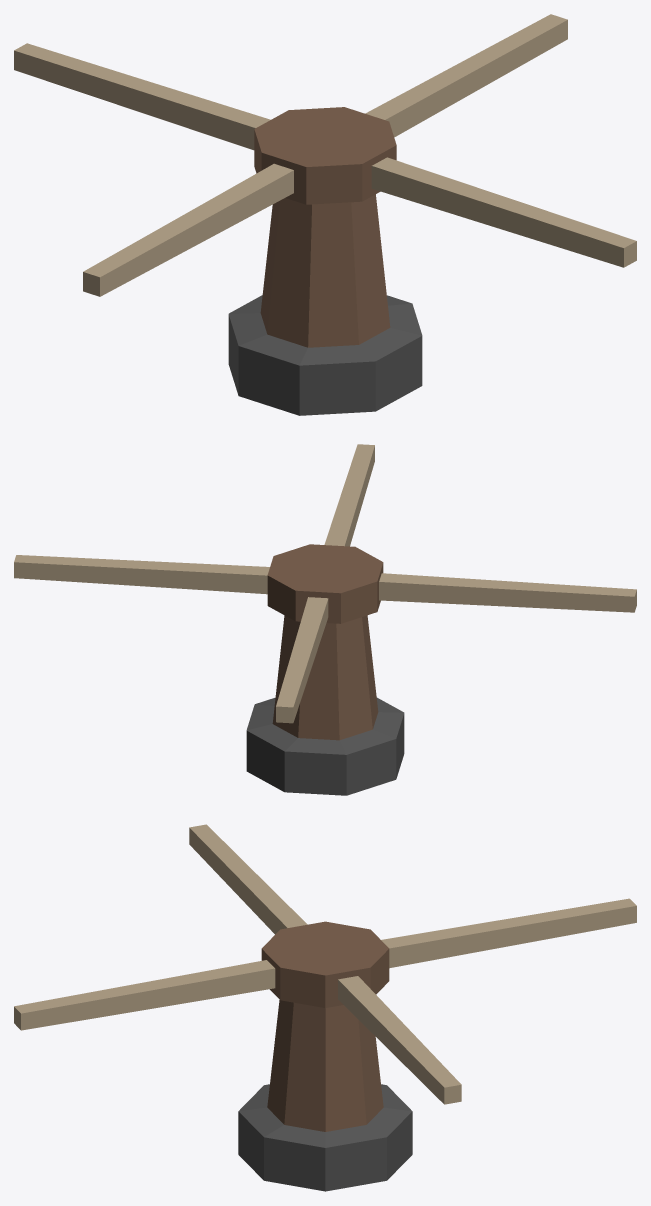
Rendered from Capstan destruction.fbx.
3 renders of one model, top to bottom at view 1: azimuth 30°, elevation 25°; view 2: azimuth 150°, elevation 25°; view 3: azimuth 270°, elevation 25°, orthographic. The views are drawn at different scales.
Visible parts, largest first — view 1: Cylinder.002, Cylinder.003, Cube.004, Cube.003, Cube.002, Cube.006; view 2: Cylinder.002, Cylinder.003, Cube.002, Cube.006, Cube.003, Cube.004; view 3: Cylinder.002, Cylinder.003, Cube.004, Cube.003, Cube.006, Cube.002.
Part boxes in pixels (bbox=[...]): Cylinder.002: bbox=[254, 107, 396, 347]; Cylinder.003: bbox=[228, 295, 422, 415]; Cube.004: bbox=[371, 157, 636, 267]; Cube.003: bbox=[14, 43, 270, 150]; Cube.002: bbox=[83, 163, 293, 296]; Cube.006: bbox=[365, 14, 567, 137]; Cylinder.002: bbox=[267, 544, 383, 740]; Cylinder.003: bbox=[246, 697, 404, 795]; Cube.002: bbox=[379, 573, 636, 612]; Cube.006: bbox=[14, 555, 269, 594]; Cube.003: bbox=[276, 597, 328, 723]; Cube.004: bbox=[324, 444, 374, 546]; Cylinder.002: bbox=[261, 921, 389, 1131]; Cylinder.003: bbox=[238, 1084, 412, 1191]; Cube.004: bbox=[14, 960, 275, 1030]; Cube.003: bbox=[381, 898, 636, 968]; Cube.006: bbox=[338, 976, 461, 1104]; Cube.002: bbox=[189, 824, 307, 934].
Size of the model in its own units: 2.59 by 0.9476 by 2.59.
